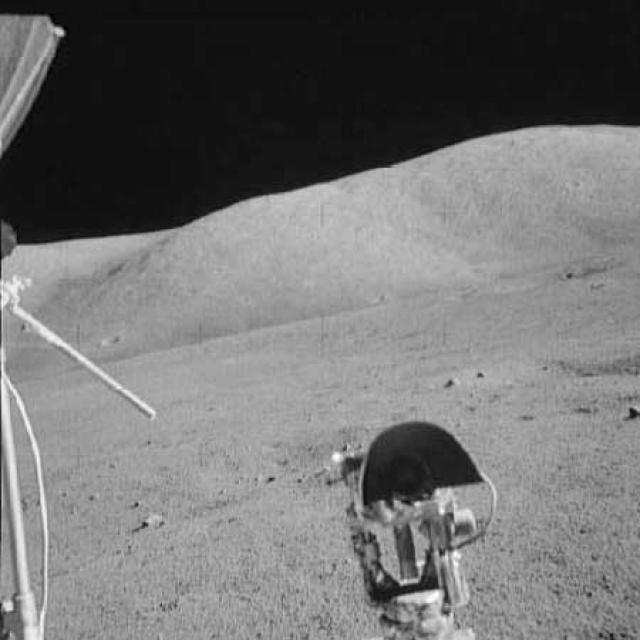artifact: (0, 224, 162, 436), (353, 420, 505, 638), (0, 434, 55, 639), (0, 16, 74, 160)
crater: (201, 436, 356, 478), (485, 349, 639, 381)
